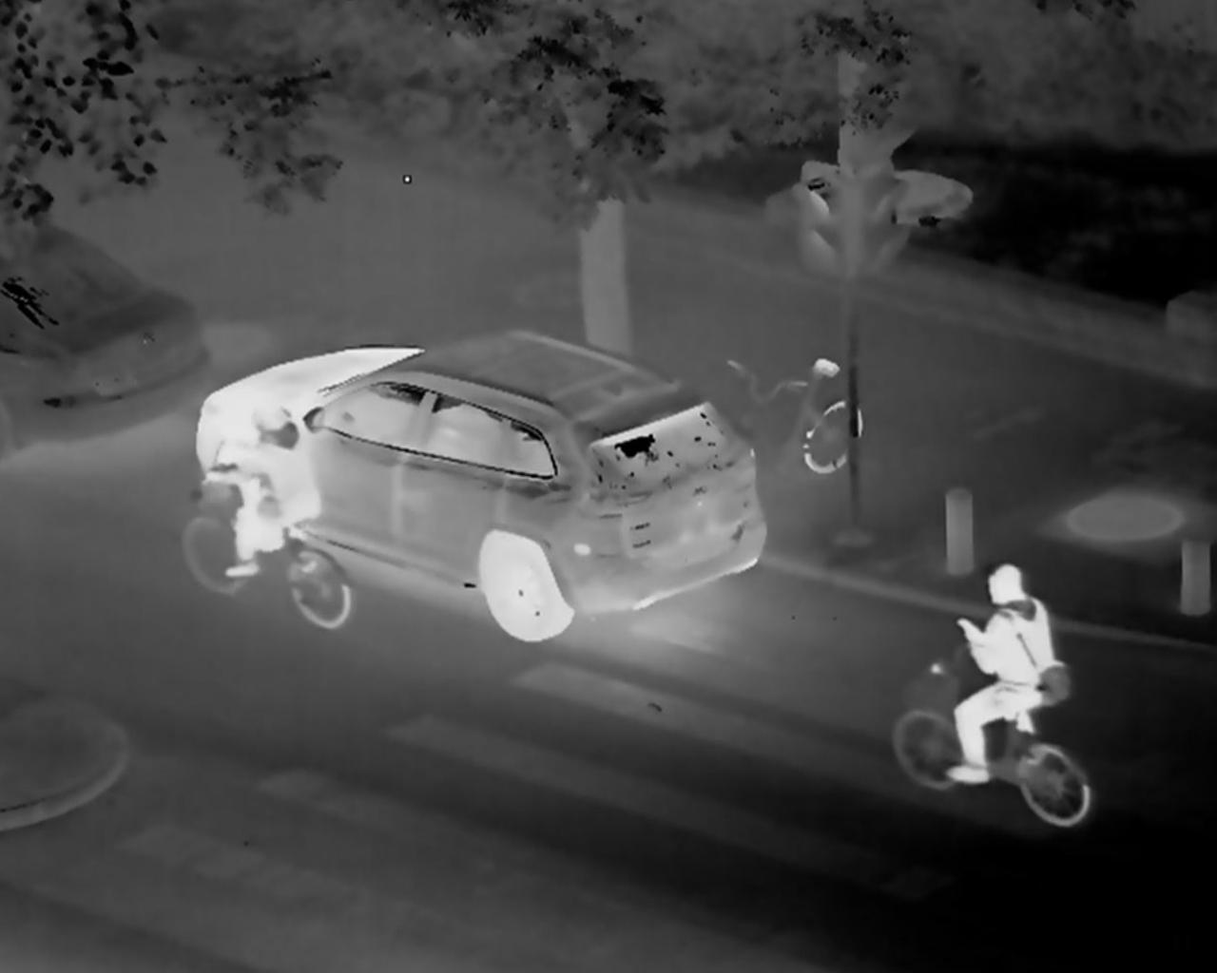person: (956, 566, 1071, 791), (210, 408, 319, 583)
